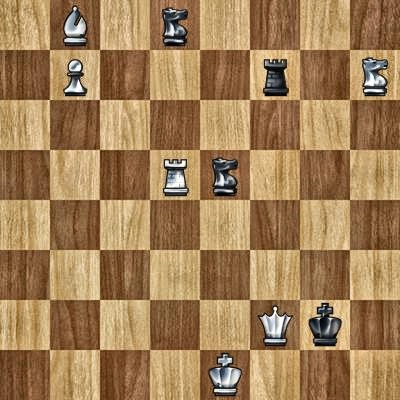black-king: (300, 300, 350, 350)
black-knight: (150, 0, 200, 50), (200, 150, 250, 200)
black-rook: (250, 50, 300, 100)
white-bishop: (50, 0, 100, 50)
white-king: (200, 350, 250, 400)
white-knight: (350, 50, 400, 100)
white-pawn: (50, 50, 100, 100)
white-queen: (250, 300, 300, 350)
white-rook: (150, 150, 200, 200)
